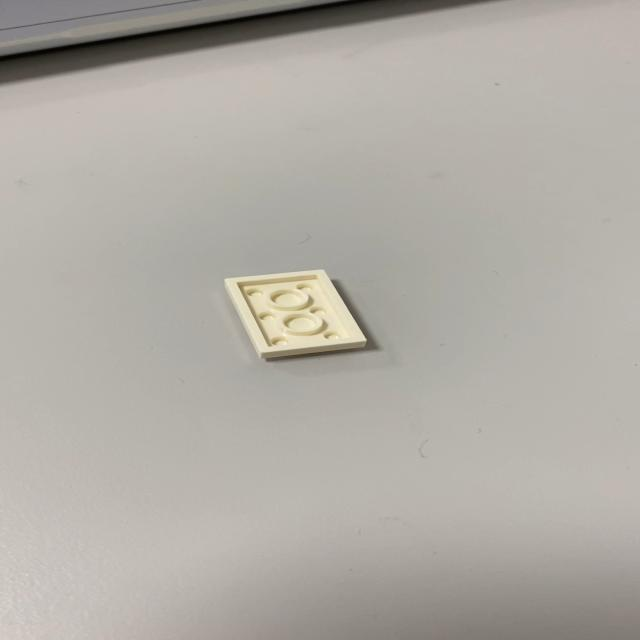C3x2x0: (222, 268, 368, 359)
